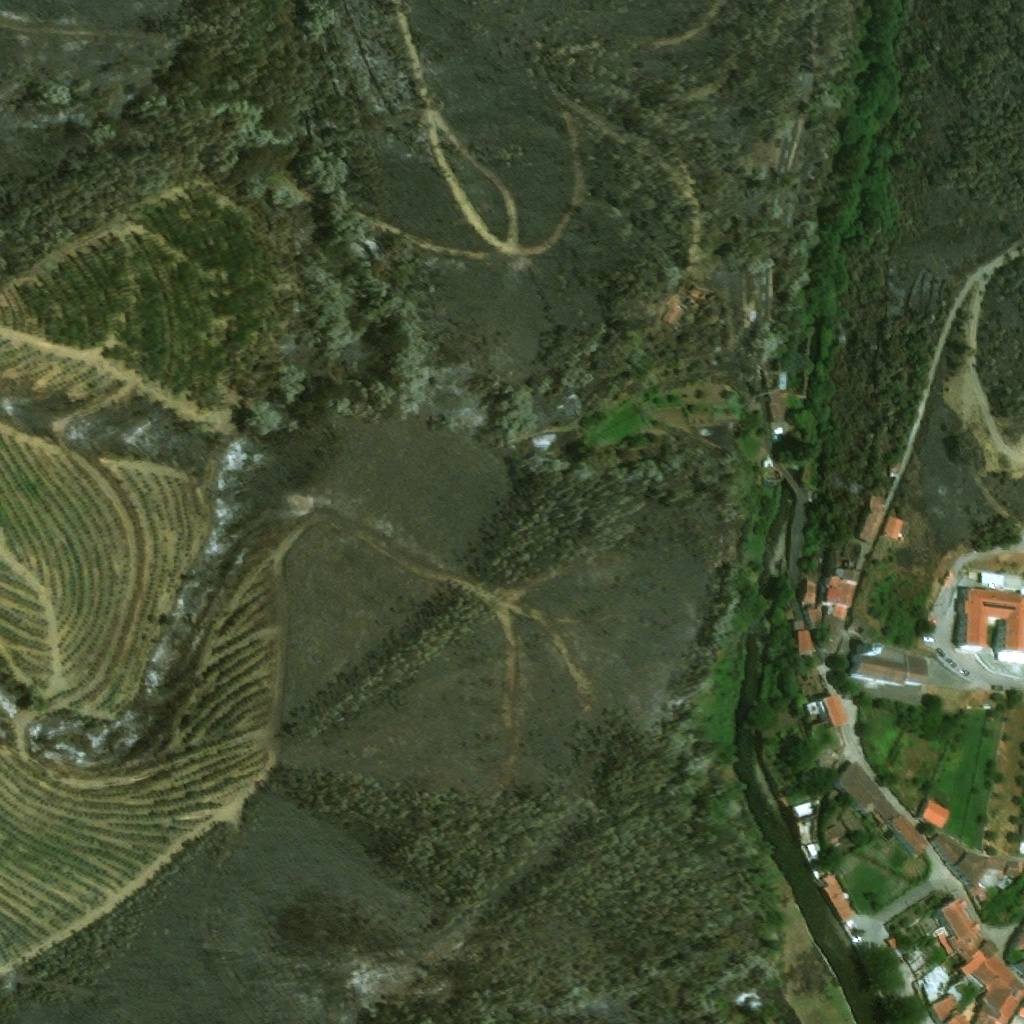0 no-damage: (937, 897, 1023, 1023), (834, 762, 928, 858), (957, 588, 1023, 664), (849, 642, 932, 689), (950, 850, 1008, 903), (923, 977, 973, 1023), (820, 875, 856, 925), (801, 694, 853, 728), (856, 497, 887, 544), (918, 797, 953, 833), (824, 573, 858, 610), (931, 834, 966, 867), (791, 621, 811, 655), (765, 393, 785, 423), (790, 819, 810, 847), (830, 568, 862, 585), (822, 822, 844, 845), (883, 515, 903, 540), (824, 604, 850, 623), (823, 617, 845, 637), (803, 609, 822, 630), (799, 582, 815, 606), (821, 633, 841, 652), (662, 305, 681, 324), (981, 571, 1003, 585), (846, 555, 865, 571), (1007, 860, 1023, 878), (882, 938, 898, 952), (854, 546, 868, 557), (777, 371, 784, 390)
2 major-damage: (677, 281, 715, 308)
4 un-classified: (1011, 921, 1023, 950)
